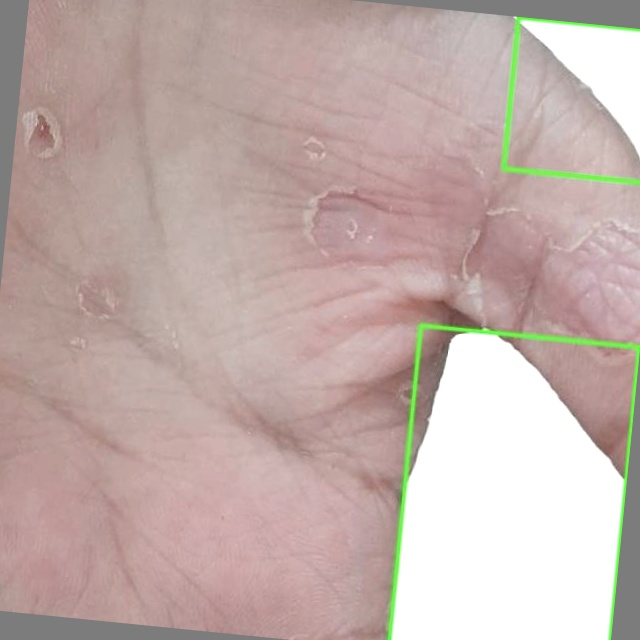Scabies: (389, 325, 639, 639), (503, 17, 639, 183)
